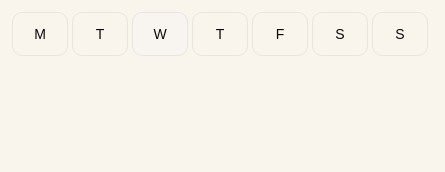
Test case: WeekdayPicker › AC19.1 the last day can’t be unticked, and says why
The width and height of the screenshot is (445, 172).
Click the button named "Wednesday": point(160, 34) [132,12,188,56]
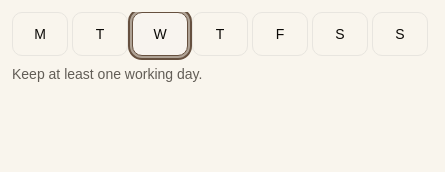
Check: the text "Keep at least one working day." is shown, box [12,66,202,82]
